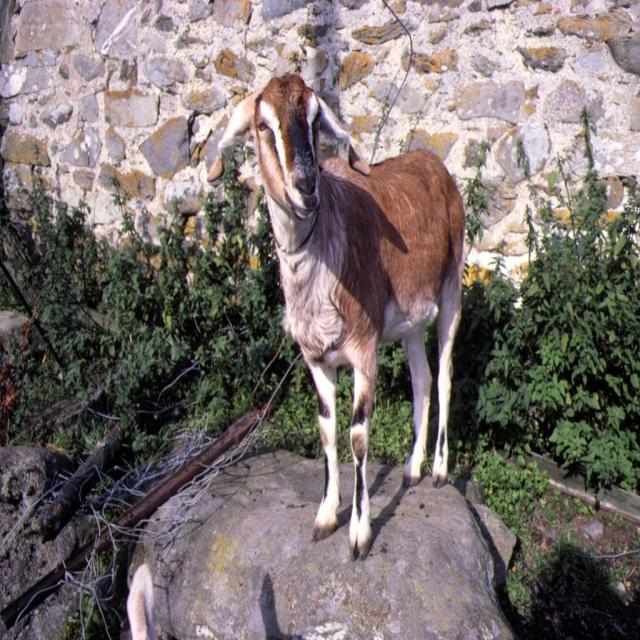Goat: (209, 74, 485, 588)
